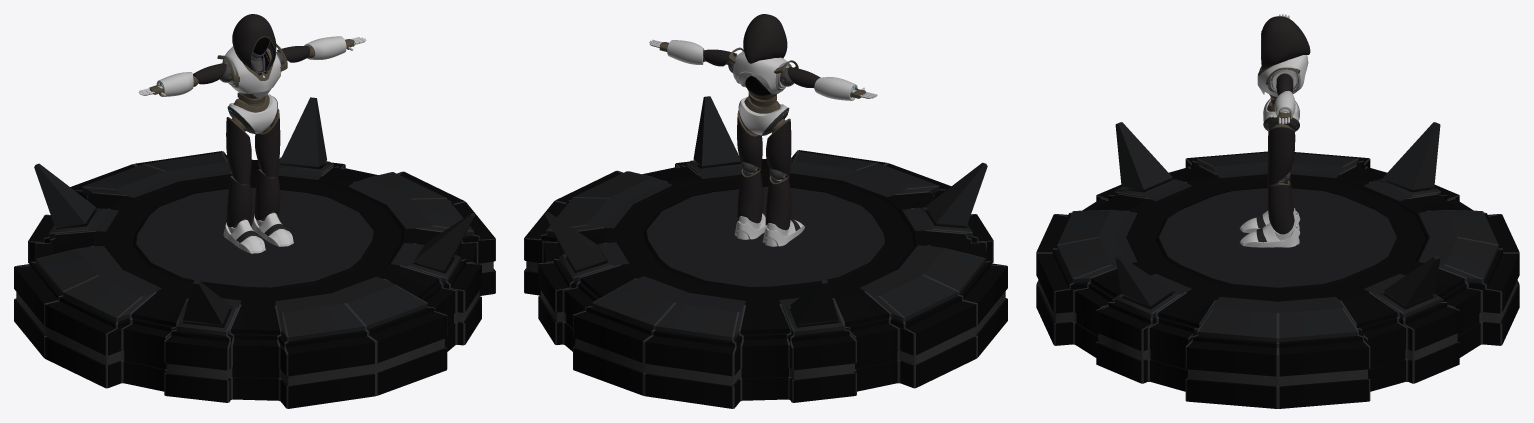
The picture shows the model from 3 angles, left to right: view 1: azimuth 30°, elevation 25°; view 2: azimuth 150°, elevation 25°; view 3: azimuth 270°, elevation 25°; orthographic projection.
Visible parts, largest first — view 1: Cylinder, Plane.002, Cube.020, Cube.059, BSurfaceMesh.002, Cube.058; view 2: Cylinder, Plane.002, Cube.020, BSurfaceMesh.002, Cube.059, Cube.058; view 3: Cylinder, Plane.002, Cube.020, BSurfaceMesh.002, Cube.059.
Boxes of the visible parts, <box> form: Cylinder: <box>14,97,495,408</box>; Plane.002: <box>217,37,288,242</box>; Cube.020: <box>223,46,293,253</box>; Cube.059: <box>138,36,366,96</box>; BSurfaceMesh.002: <box>232,14,276,73</box>; Cube.058: <box>145,39,363,95</box>; Cylinder: <box>524,96,1007,408</box>; Plane.002: <box>728,47,800,230</box>; Cube.020: <box>733,51,804,246</box>; BSurfaceMesh.002: <box>743,14,787,63</box>; Cube.059: <box>649,39,877,100</box>; Cube.058: <box>652,42,867,98</box>; Cylinder: <box>1036,122,1519,408</box>; Plane.002: <box>1256,65,1300,242</box>; Cube.020: <box>1239,55,1308,247</box>; BSurfaceMesh.002: <box>1261,16,1310,69</box>; Cube.059: <box>1269,14,1295,124</box>.
Size of the model in its own units: 3.23 by 2.13 by 3.23.
Materials: 9 (4 with a texture image).
